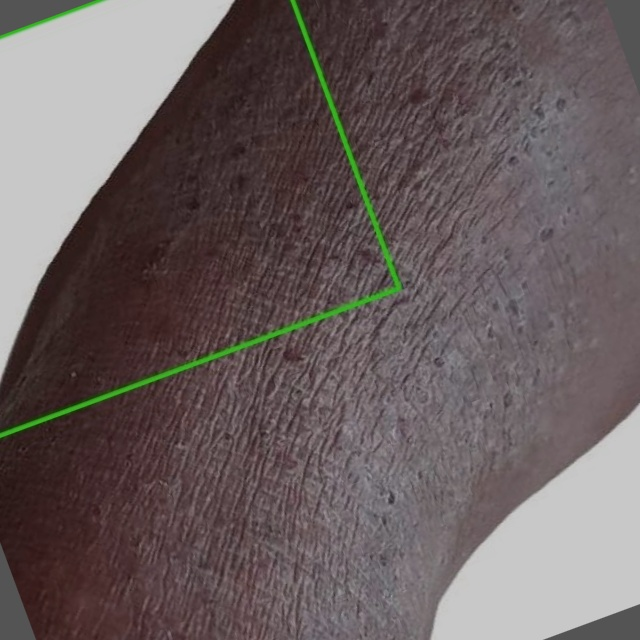Contact Dermatitis: (0, 0, 399, 435)
